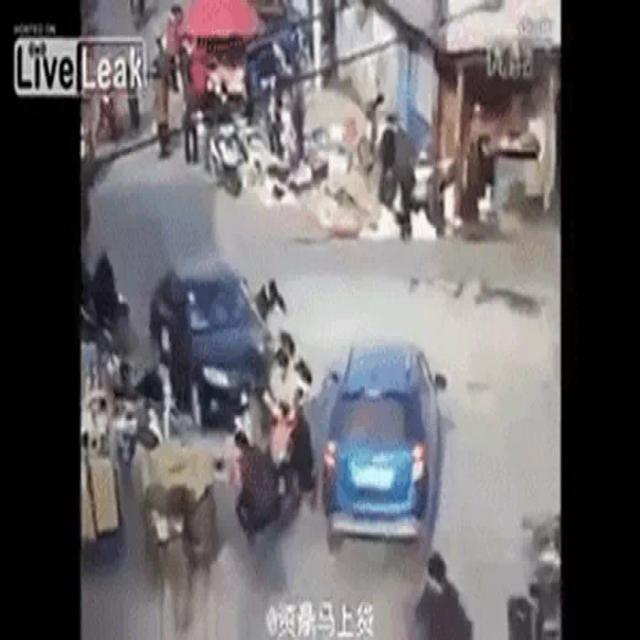multiple_accident: (140, 251, 319, 559)
